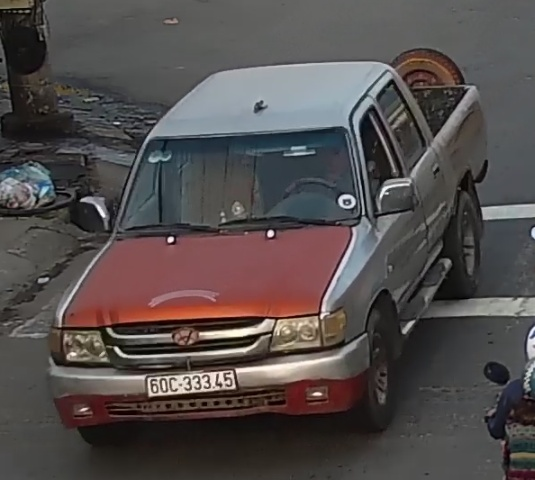vehicle plate: (144, 369, 240, 396)
